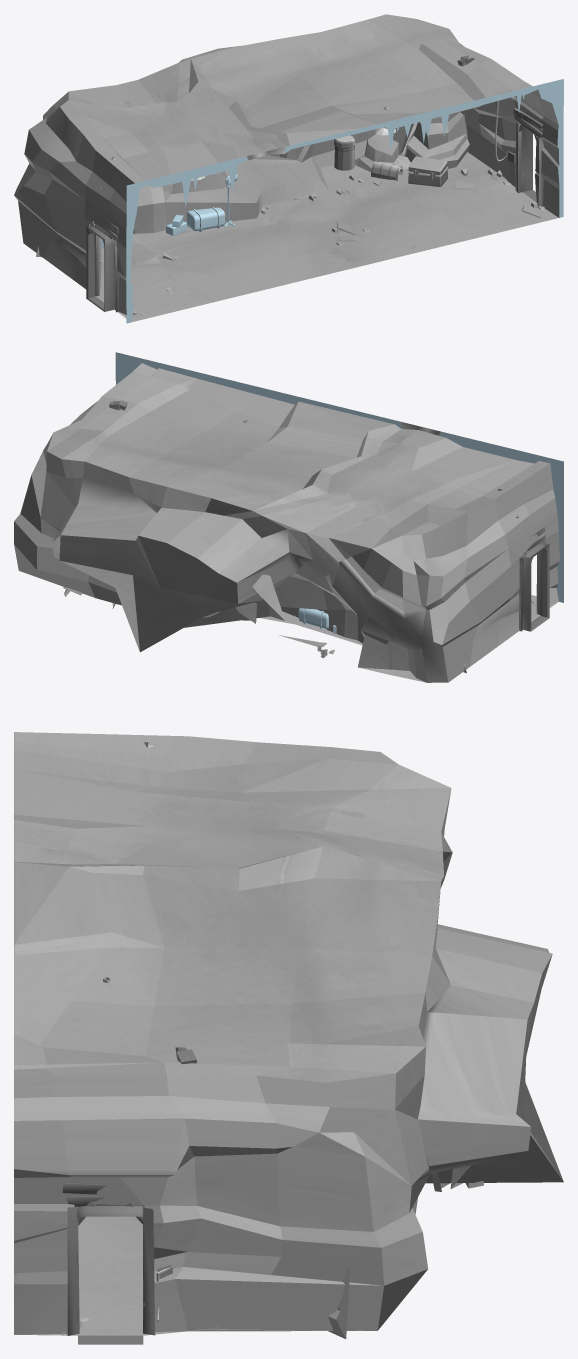
The model's file is MSH_QuestCave_L4_R2_optimized.fbx.
3 views of the same model, one above another, from view 1: azimuth 30°, elevation 25°; view 2: azimuth 150°, elevation 25°; view 3: azimuth 270°, elevation 25° (orthographic). The views are drawn at different scales.
Visible parts, largest first — view 1: lightmap3, lightmap0, lightmap1; view 2: lightmap3, lightmap0, lightmap1; view 3: lightmap3, lightmap0.
Boxes of the visible parts, left/top/right/bottom form: lightmap3: left=14, top=14, right=563, bottom=323; lightmap0: left=86, top=55, right=543, bottom=312; lightmap1: left=100, top=135, right=447, bottom=249; lightmap3: left=14, top=352, right=563, bottom=682; lightmap0: left=109, top=400, right=549, bottom=631; lightmap1: left=298, top=608, right=336, bottom=633; lightmap3: left=14, top=732, right=563, bottom=1338; lightmap0: left=62, top=741, right=196, bottom=1344.
Size of the model in its own units: 20.63 by 6.58 by 12.32.
